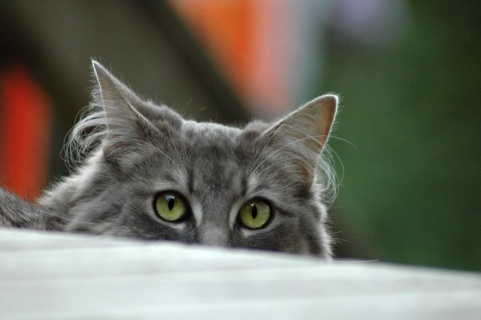Cat: (0, 58, 378, 260)
